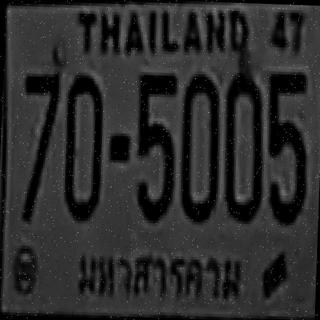N00: (221, 70, 263, 221), (178, 72, 220, 221), (62, 73, 103, 220)
N05: (262, 68, 308, 223), (133, 70, 175, 220)
N07: (18, 70, 59, 217), (19, 70, 59, 192), (20, 70, 59, 168), (20, 70, 59, 158)
P25: (66, 234, 251, 315)
